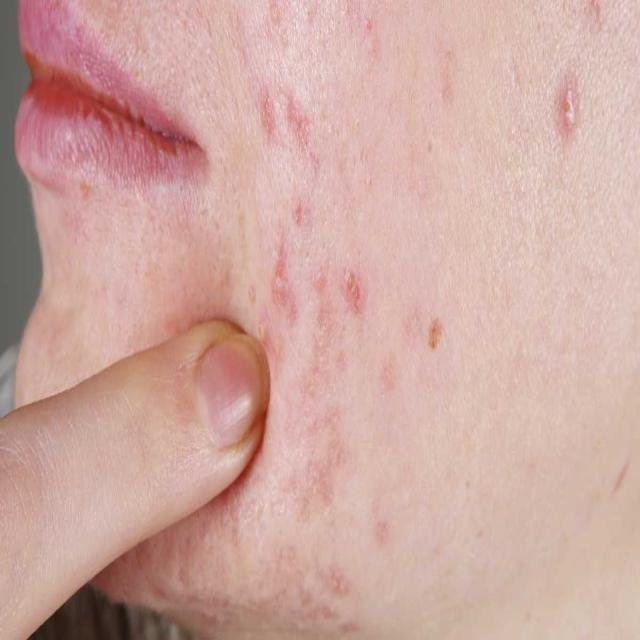Acne: (553, 74, 589, 152), (256, 102, 318, 144), (299, 379, 347, 433), (342, 273, 379, 336), (365, 472, 394, 551), (288, 159, 314, 242), (320, 550, 356, 606), (265, 250, 295, 314), (355, 13, 382, 74), (310, 460, 338, 516), (235, 281, 263, 321), (425, 328, 452, 358)
